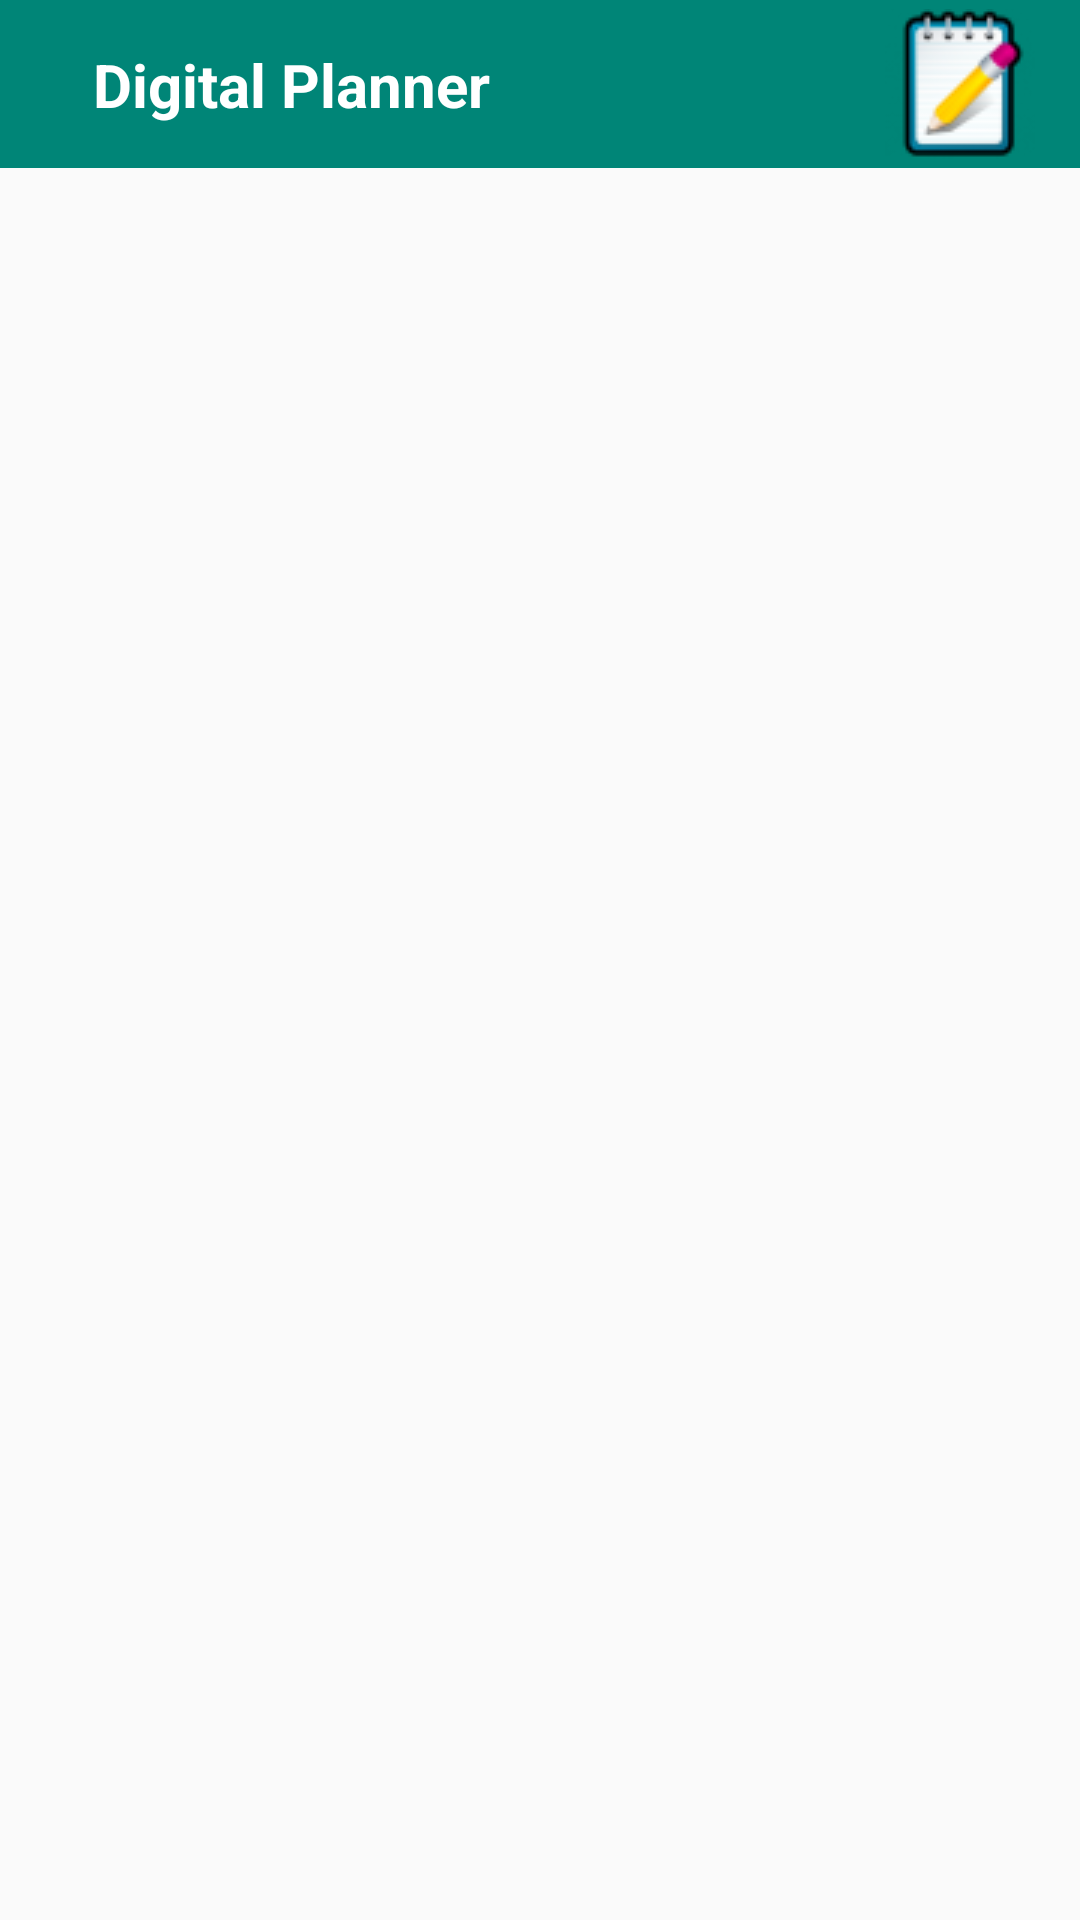

Point at icon controls on the screen. Image size 1080px×1920px, points as point (x, y).
notepad: point (963, 84)
